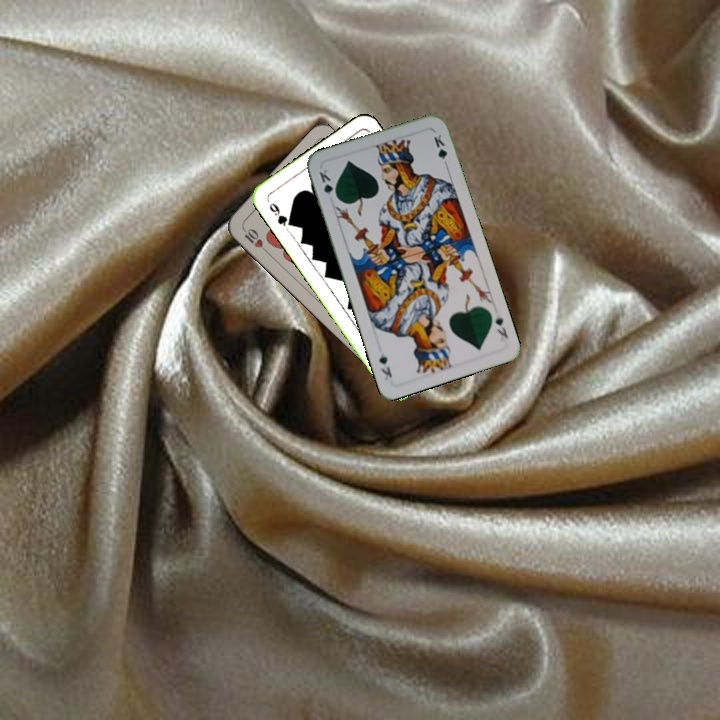G9: (263, 196, 295, 229)
GK: (315, 165, 340, 202), (491, 310, 511, 341)
H10: (238, 223, 271, 255)
